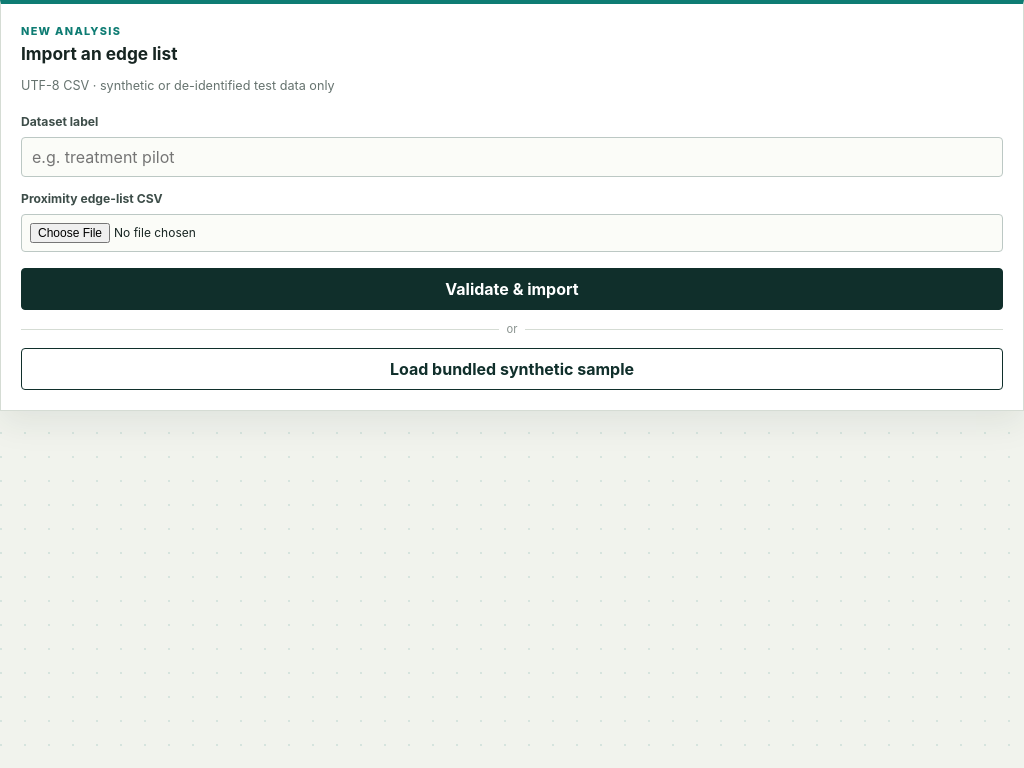
Test: requires a selected file before submission
The image size is (1024, 768).
Click the button "Validate & import" at point(512, 289), box [21,268,1003,310]
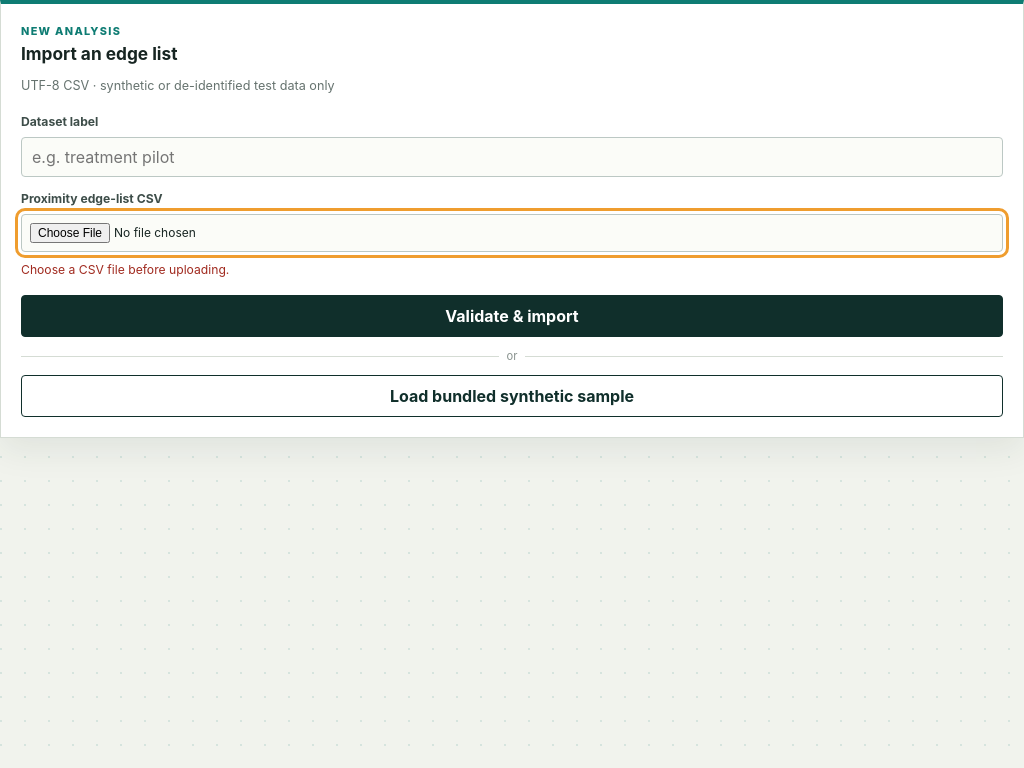
Result: the message shows "Choose a CSV" at [21,262,229,277]
